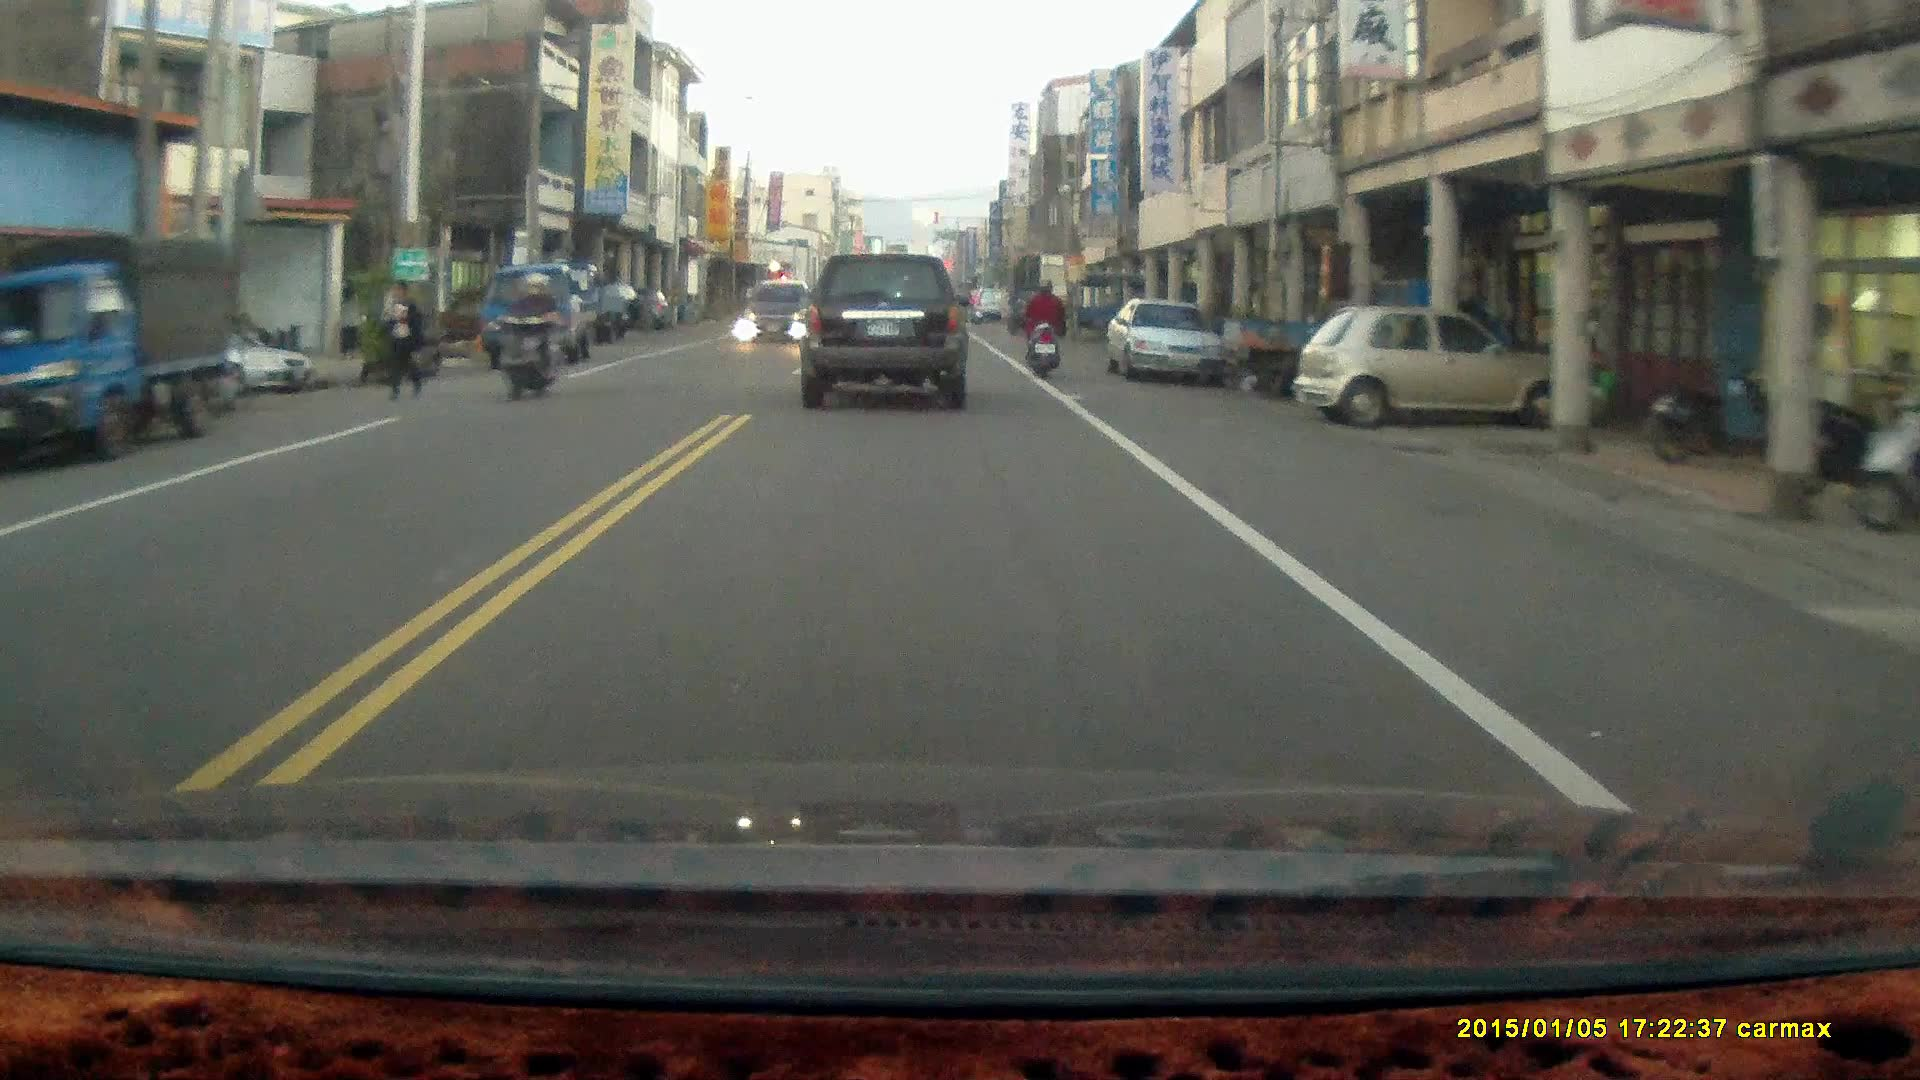pedestrian: (374, 273, 425, 404)
rider: (499, 270, 559, 404), (1023, 273, 1063, 374)
vehicle: (1, 232, 257, 470), (1297, 305, 1575, 427), (795, 250, 972, 413), (481, 265, 623, 368), (161, 317, 311, 398), (1108, 301, 1230, 384), (743, 280, 813, 345)
